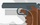pistol: (1, 1, 40, 25)
